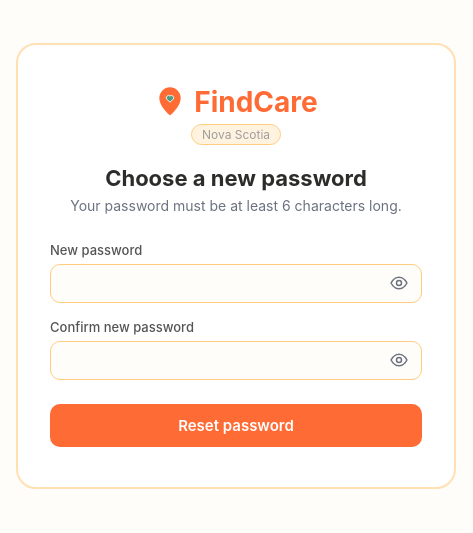
it: reset password checks confirmation before submitting
In the password field labelled "New password": [236, 283] box [50,264,422,303], type "new-password"
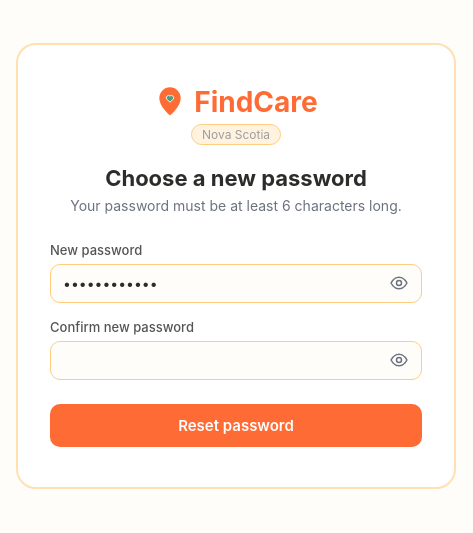
In the password field labelled "Confirm new password": [236, 360] box [50,341,422,380], type "different-password"
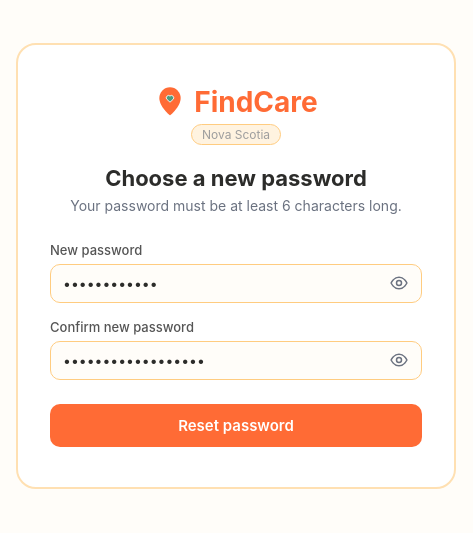
Click the button "Reset password": [236, 425] box [50,404,422,447]
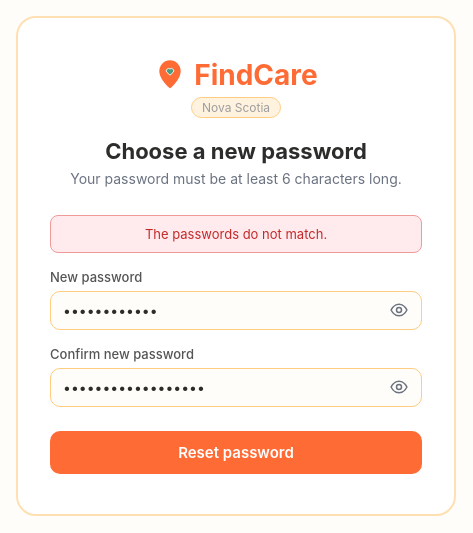
Expected: the message reads "The passwords do not match.", [145,226,327,242]
